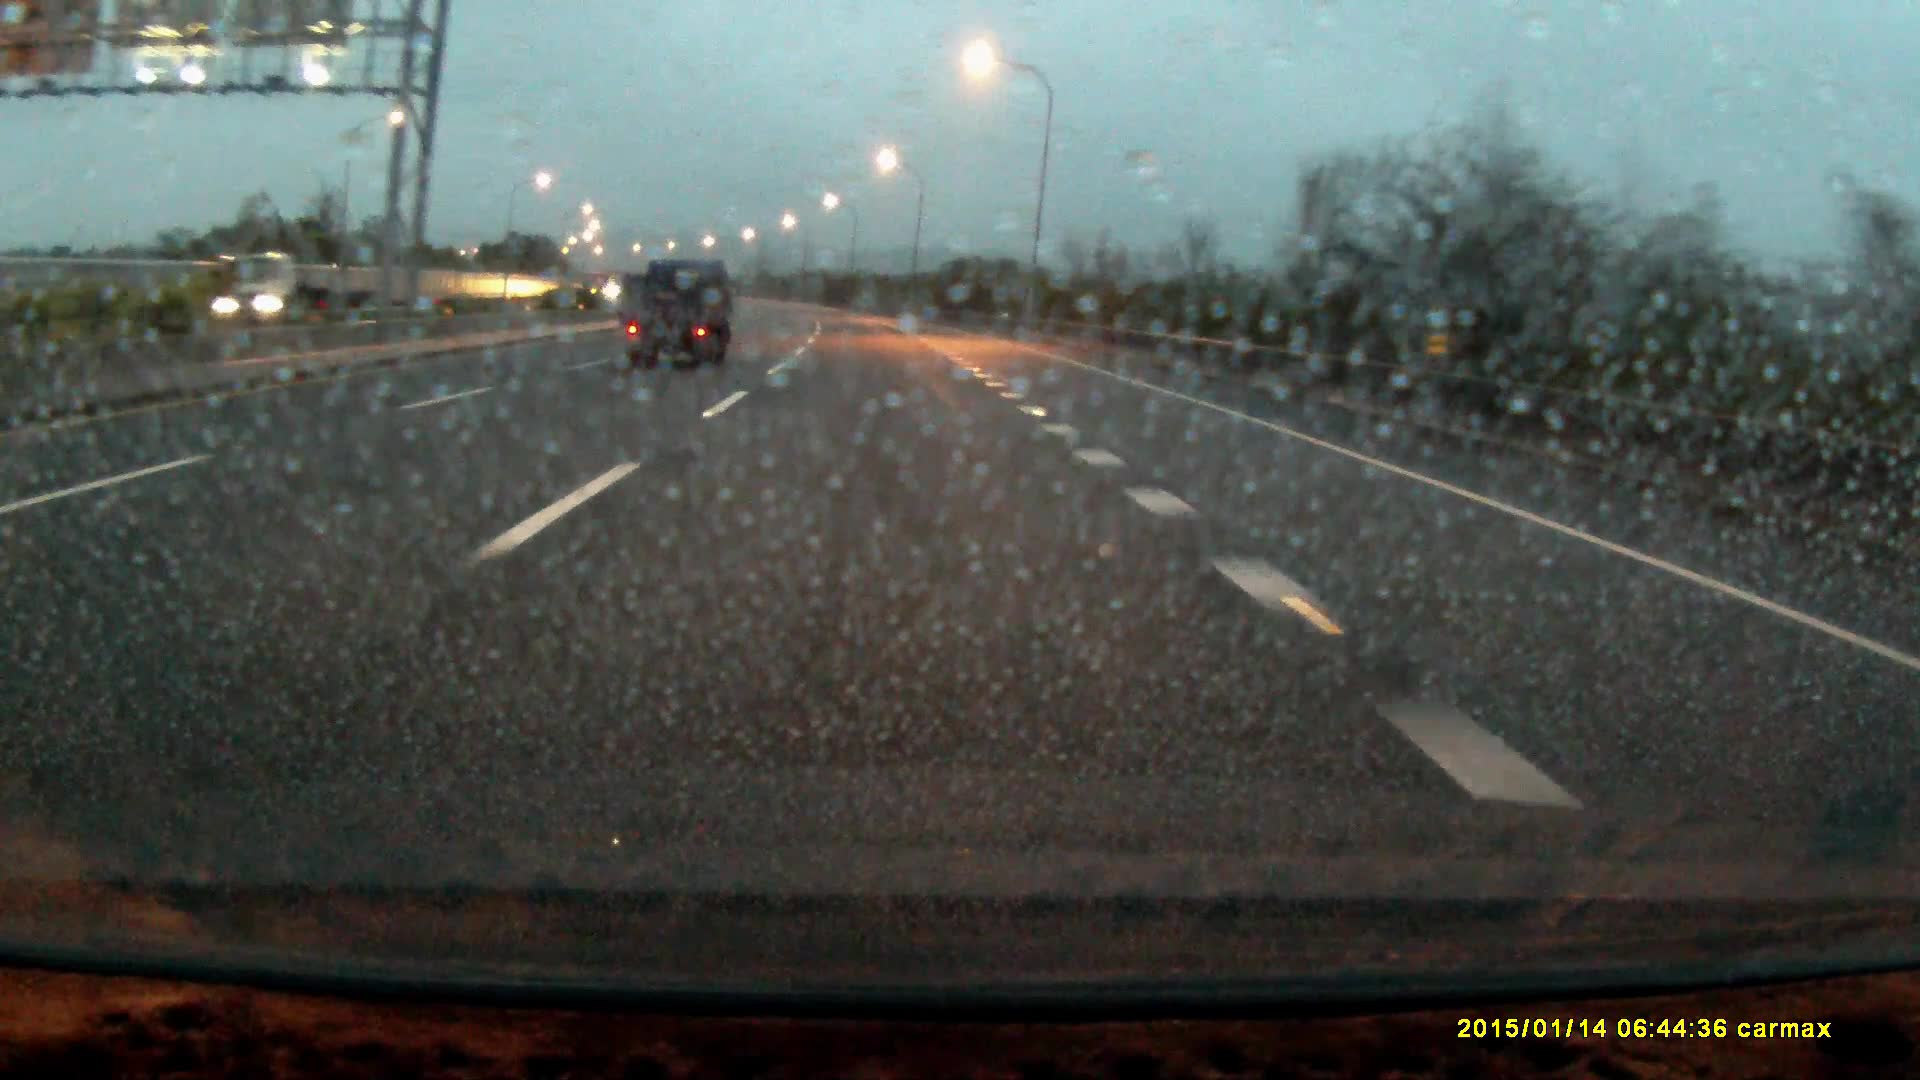vehicle: (626, 262, 737, 377), (214, 251, 367, 324)
